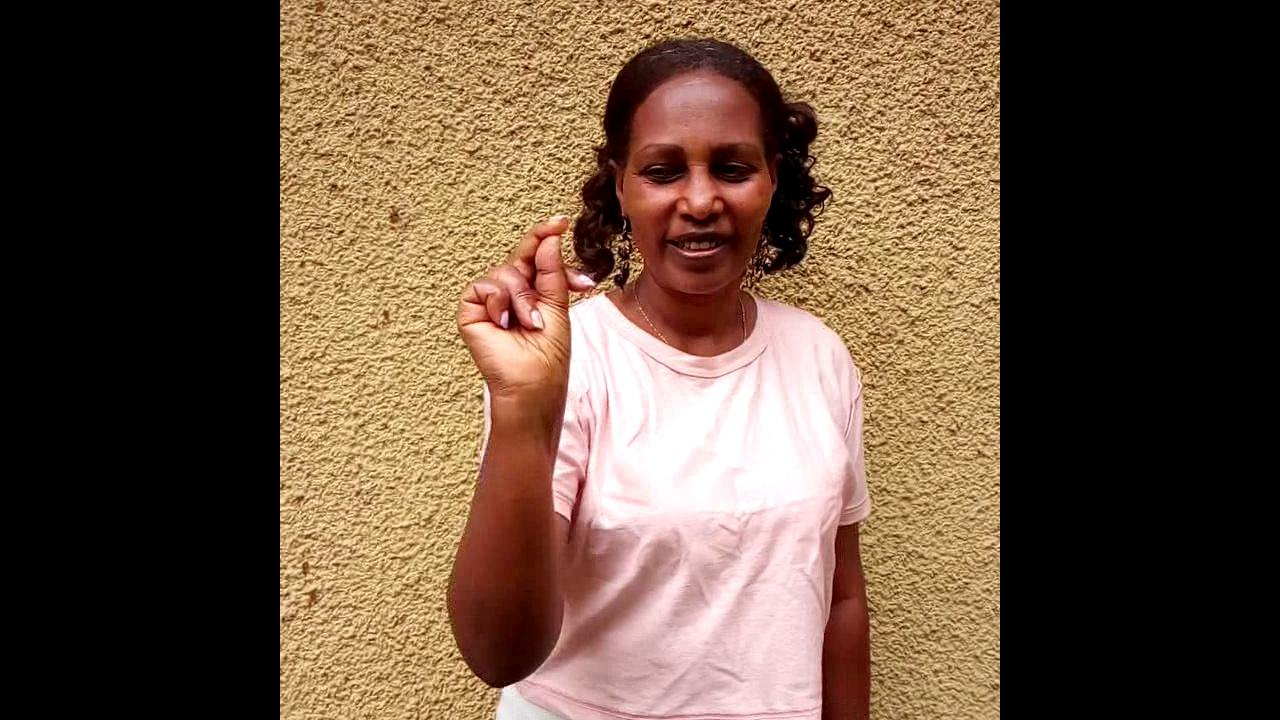CHE: (460, 213, 595, 493)
